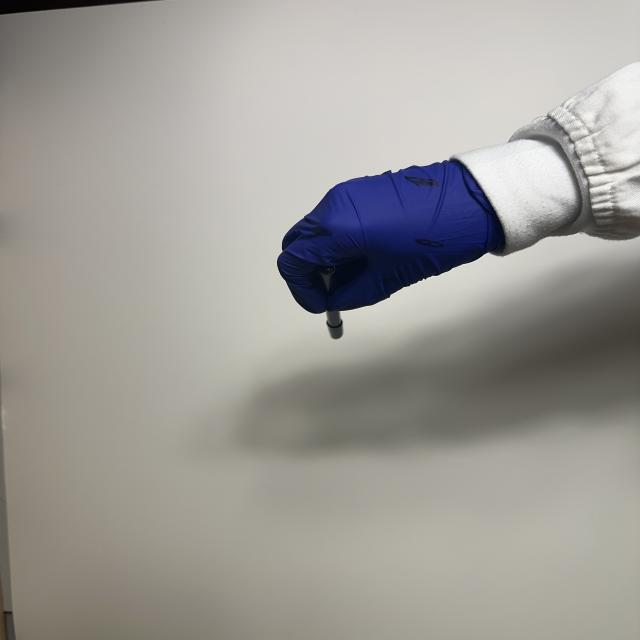gloves_contaminated: (277, 161, 505, 313)
